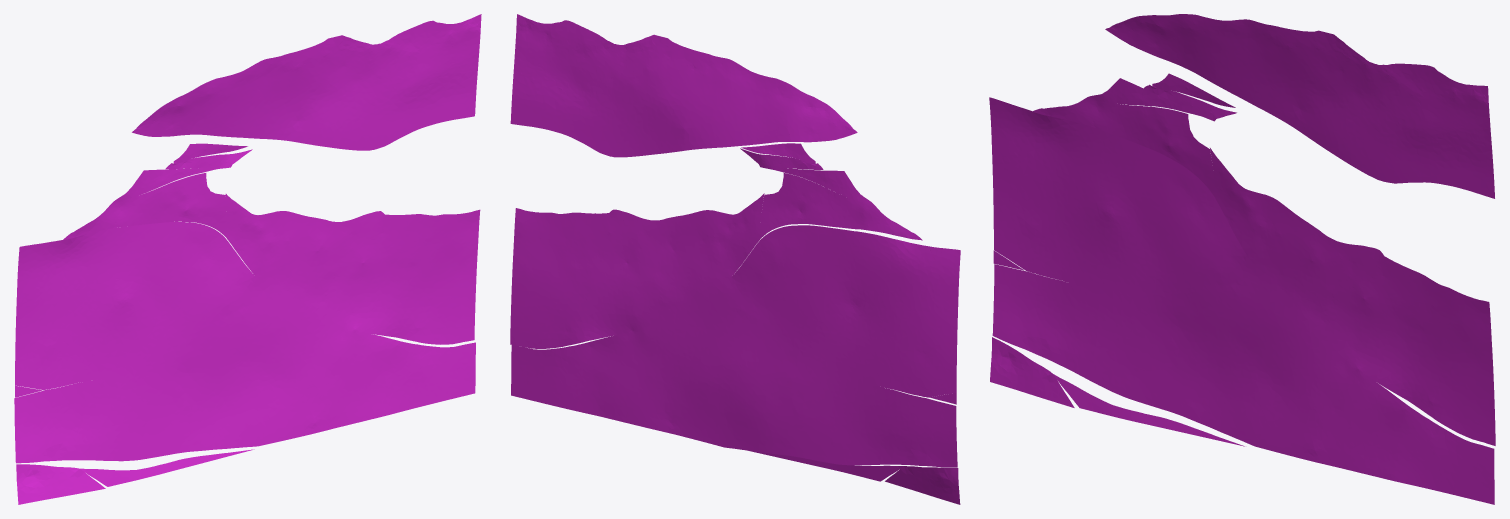
File: 05_GlasgowEllCoal_50m_GGERFS_Predrill.gltf
3 views of the same model, side by side, from view 1: azimuth 30°, elevation 25°; view 2: azimuth 150°, elevation 25°; view 3: azimuth 330°, elevation 25° (orthographic). The views are drawn at different scales.
Visible parts, largest first — view 1: 05_GLASGOWELLCOAL_50M_GGERFS_PREDRILL; view 2: 05_GLASGOWELLCOAL_50M_GGERFS_PREDRILL; view 3: 05_GLASGOWELLCOAL_50M_GGERFS_PREDRILL.
Part boxes in pixels (bbox=[...]): 05_GLASGOWELLCOAL_50M_GGERFS_PREDRILL: bbox=[14, 14, 481, 504]; 05_GLASGOWELLCOAL_50M_GGERFS_PREDRILL: bbox=[510, 14, 960, 504]; 05_GLASGOWELLCOAL_50M_GGERFS_PREDRILL: bbox=[989, 14, 1495, 504].
Size of the model in its own units: 5005 by 4150 by 198.
